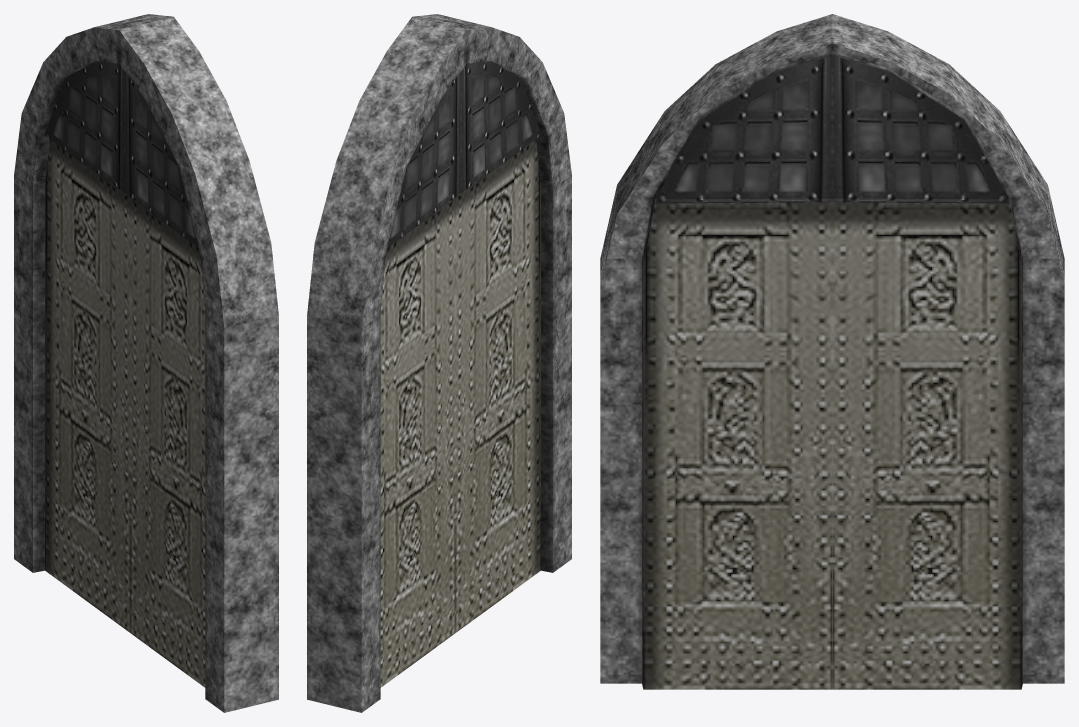
Rendered from Treasure_Door.fbx.
3 renders of one model, left to right at view 1: azimuth 30°, elevation 25°; view 2: azimuth 150°, elevation 25°; view 3: azimuth 270°, elevation 25°, orthographic. The views are drawn at different scales.
Parts seen in each view (by area): view 1: pCube2; view 2: pCube2; view 3: pCube2.
Boxes of the visible parts, left/top/right/bottom form: pCube2: left=14, top=14, right=278, bottom=712; pCube2: left=307, top=14, right=571, bottom=712; pCube2: left=600, top=14, right=1064, bottom=689.
Bounding box in the file's own units: 20 × 212 × 133.
